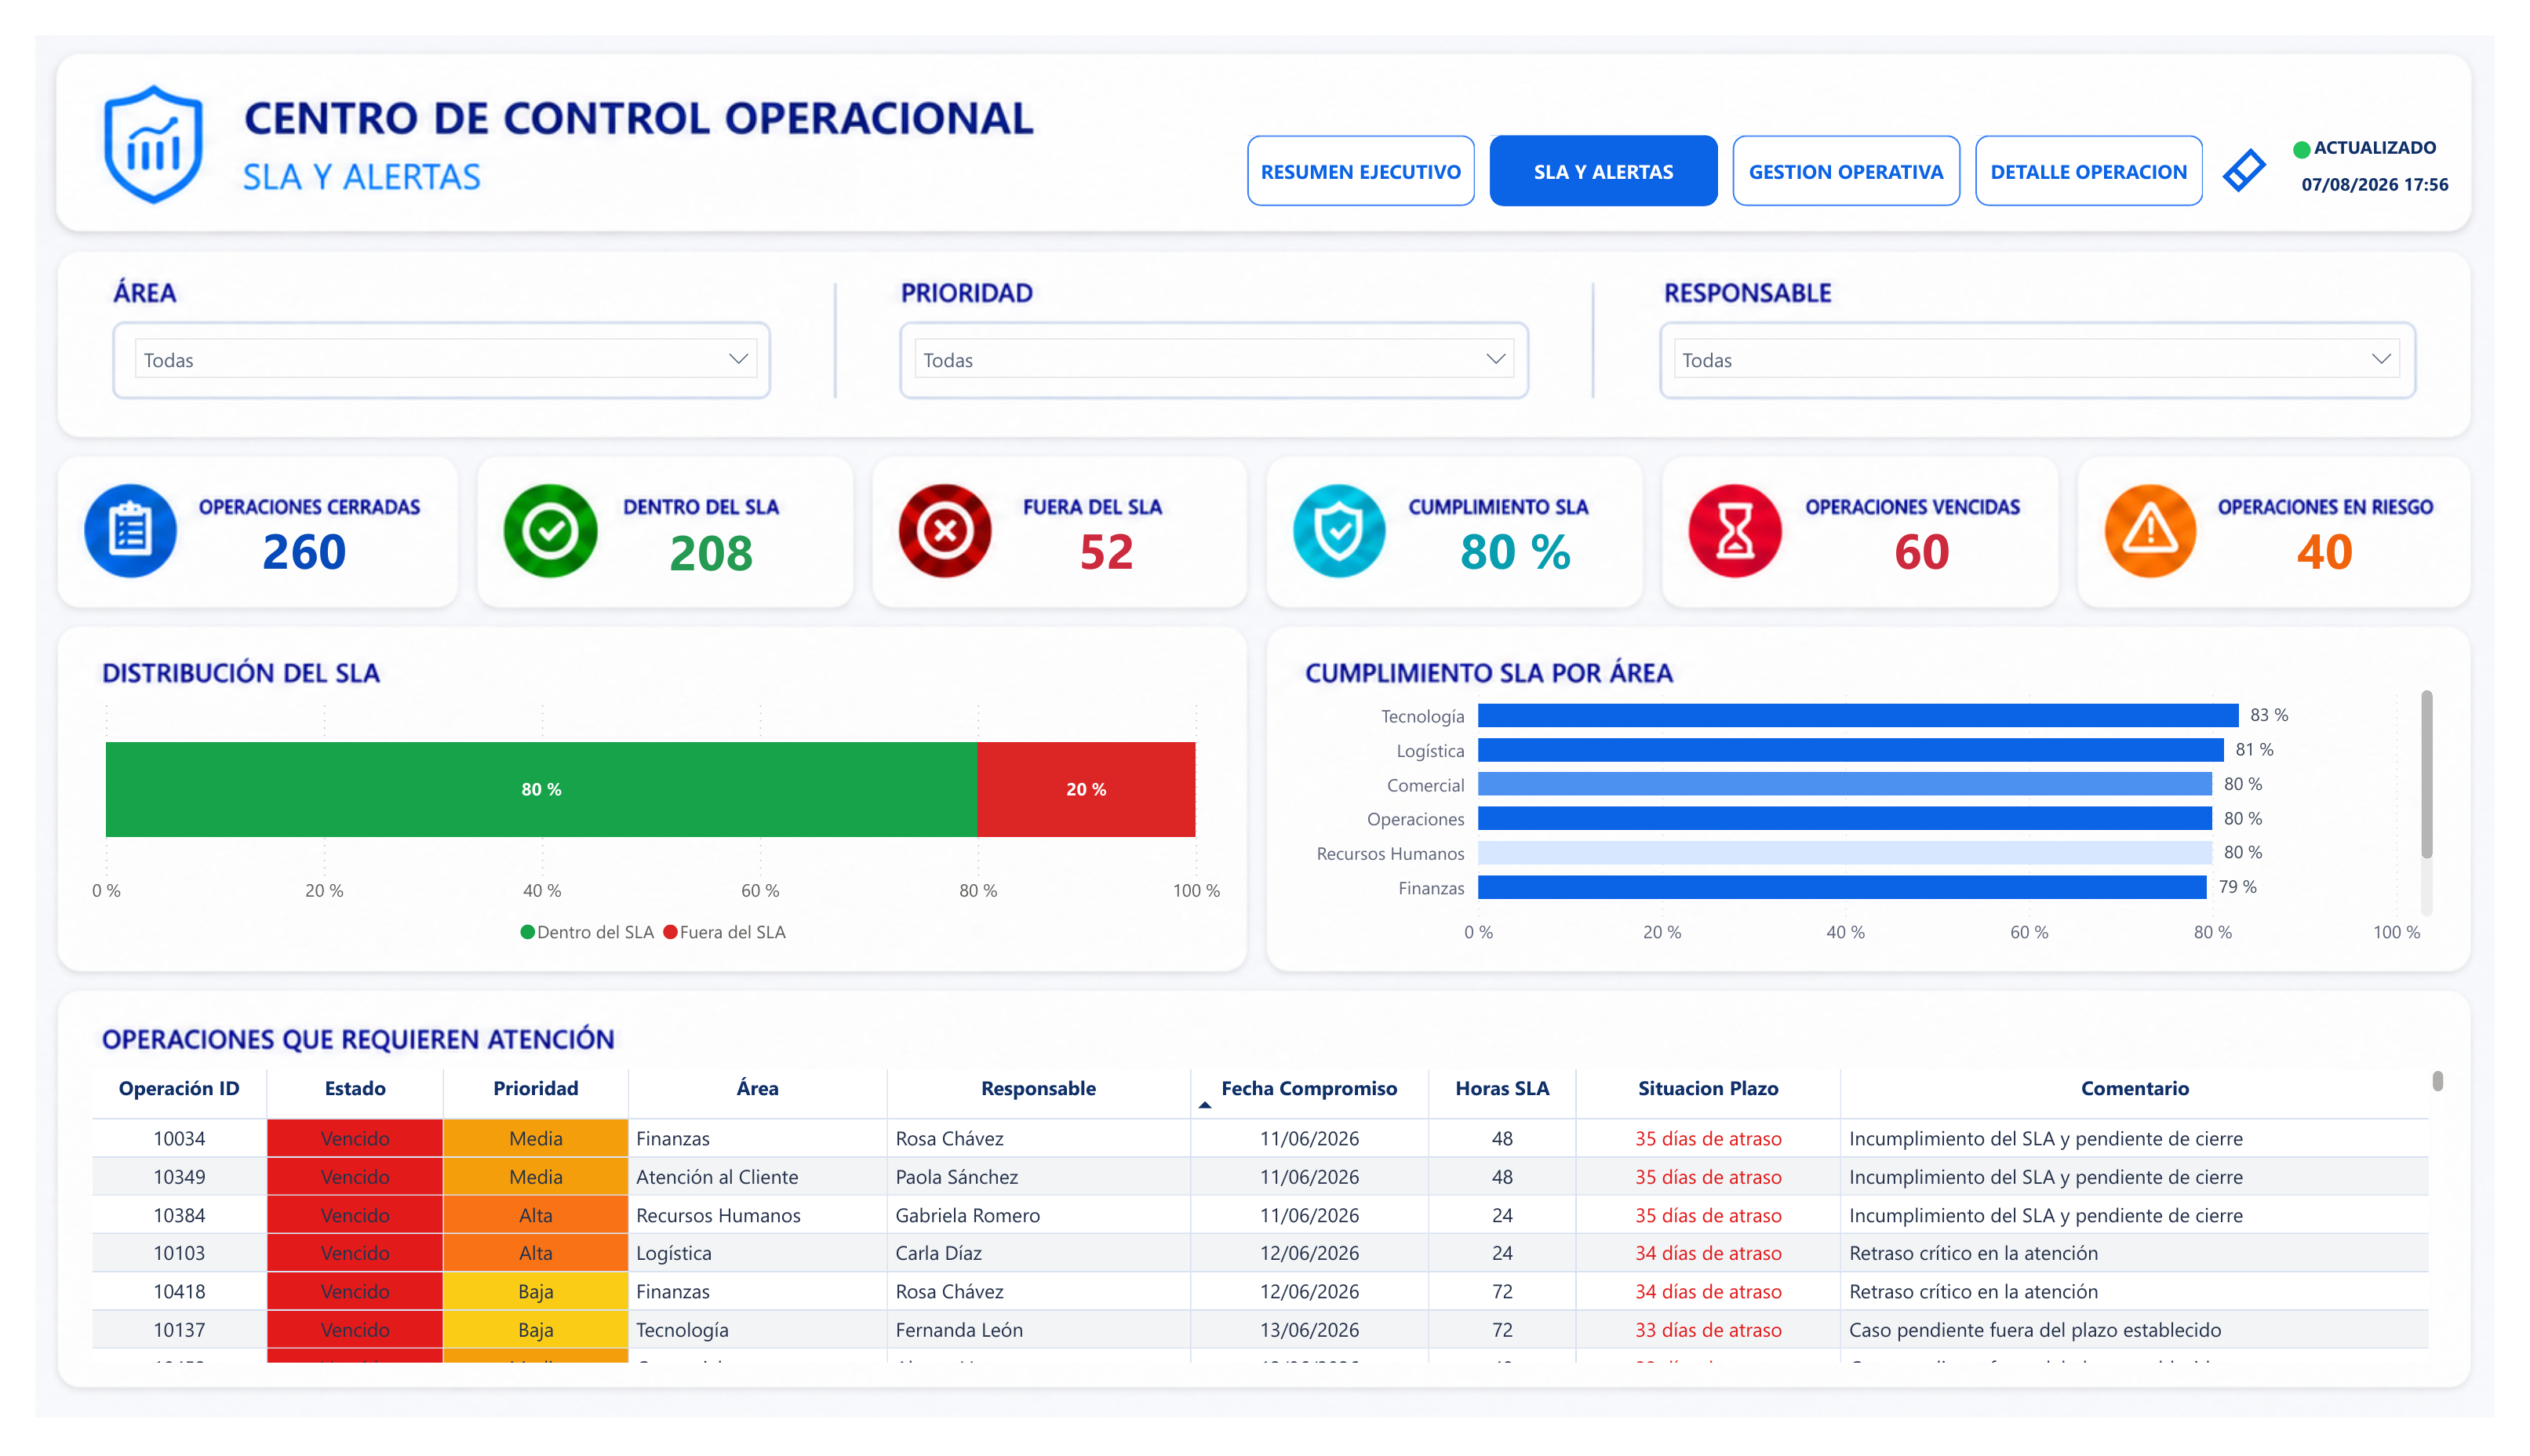

This screenshot's page, from the dashboard's own definition file:
{"tool":"powerbi","page":{"name":"SLA Y ALERTAS","canvas":[1672,941],"ordinal":1},"visuals":[{"type":"slicer","fields":{"Values":["Dim_Area.Area"]},"box":[57.5,195.8,443.3,47.5],"z":0},{"type":"slicer","fields":{"Values":["Dim_Prioridad.Prioridad"]},"box":[588.3,195.8,427.5,47.5],"z":1000},{"type":"slicer","fields":{"Values":["Dim_Responsable.Responsable"]},"box":[1104.2,195.8,514.2,47.5],"z":2000},{"type":"clusteredBarChart","fields":{"Category":["Dim_Area.Area"],"Y":["Fact_Operaciones.Porcentaje Cumplimiento SLA"]},"box":[859,432,775.7,195.7],"z":3000},{"type":"cardVisual","fields":{"Data":["Fact_Operaciones.Operaciones Dentro SLA"]},"box":[371.7,315,175.8,66.7],"z":4000},{"type":"cardVisual","fields":{"Data":["Fact_Operaciones.Porcentaje Cumplimiento SLA"]},"box":[918.3,315,177.5,66.2],"z":5000},{"type":"cardVisual","fields":{"Data":["Fact_Operaciones.Operaciones Vencidas"]},"box":[1194.2,315,177.5,66.2],"z":6000},{"type":"cardVisual","fields":{"Data":["Fact_Operaciones.Operaciones En Riesgo"]},"box":[1468.3,315,177.5,66.2],"z":7000},{"type":"cardVisual","fields":{"Data":["Fact_Operaciones.Operaciones Cerradas"]},"box":[94.2,315,177.5,66.2],"z":8000},{"type":"cardVisual","fields":{"Data":["Fact_Operaciones.Operaciones Fuera SLA"]},"box":[640,315,177.5,66.2],"z":9000},{"type":"barChart","fields":{"Y":["Fact_Operaciones.Porcentaje Cumplimiento SLA","Fact_Operaciones.Porcentaje Fuera SLA"]},"box":[33,442,778.2,186.4],"z":10000},{"type":"tableEx","fields":{"Values":["Fact_Operaciones.OperacionID","Dim_Estado.Estado","Dim_Prioridad.Prioridad","Dim_Area.Area","Dim_Responsable.Responsable","Fact_Operaciones.FechaCompromiso","Fact_Operaciones.HorasSLA","Fact_Operaciones.Situacion Plazo","Fact_Operaciones.Comentario"]},"box":[33,698,1610,209],"z":11000},{"type":"pageNavigator","box":[824,68,650,48],"z":12000},{"type":"actionButton","box":[1487,68,40,48],"z":13000},{"type":"cardVisual","title":"ACTUALIZADO","fields":{"Data":["Consulta.Texto Actualizacion"]},"box":[1536,68,110,48],"z":14000},{"type":"shape","box":[1535,72,12,12],"z":15000}]}

Visuals, with their boxes in screenshot pixels (x1, y1, x2, y2), scaled from the page's 1672x941 canvas onto the 2530x1456 screenshot:
slicer - Dim_Area.Area: [left=87, top=303, right=758, bottom=377]
slicer - Dim_Prioridad.Prioridad: [left=890, top=303, right=1537, bottom=377]
slicer - Dim_Responsable.Responsable: [left=1671, top=303, right=2449, bottom=377]
clusteredBarChart - Dim_Area.Area x Fact_Operaciones.Porcentaje Cumplimiento SLA: [left=1300, top=668, right=2474, bottom=971]
cardVisual - Fact_Operaciones.Operaciones Dentro SLA: [left=562, top=487, right=828, bottom=591]
cardVisual - Fact_Operaciones.Porcentaje Cumplimiento SLA: [left=1389, top=487, right=1658, bottom=590]
cardVisual - Fact_Operaciones.Operaciones Vencidas: [left=1807, top=487, right=2076, bottom=590]
cardVisual - Fact_Operaciones.Operaciones En Riesgo: [left=2222, top=487, right=2490, bottom=590]
cardVisual - Fact_Operaciones.Operaciones Cerradas: [left=143, top=487, right=411, bottom=590]
cardVisual - Fact_Operaciones.Operaciones Fuera SLA: [left=968, top=487, right=1237, bottom=590]
barChart - Fact_Operaciones.Porcentaje Cumplimiento SLA x Fact_Operaciones.Porcentaje Fuera SLA: [left=50, top=684, right=1228, bottom=972]
tableEx - Fact_Operaciones.OperacionID x Dim_Estado.Estado: [left=50, top=1080, right=2486, bottom=1403]
pageNavigator: [left=1247, top=105, right=2230, bottom=180]
actionButton: [left=2250, top=105, right=2310, bottom=180]
"ACTUALIZADO" cardVisual: [left=2324, top=105, right=2491, bottom=180]
shape: [left=2323, top=111, right=2341, bottom=130]
